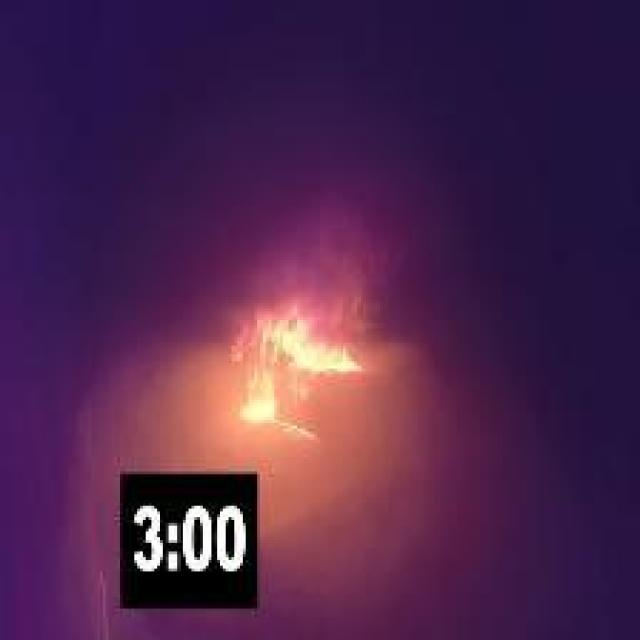fire: (215, 299, 364, 445)
